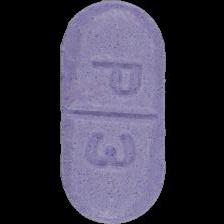63629-5034: (0, 0, 224, 224)
